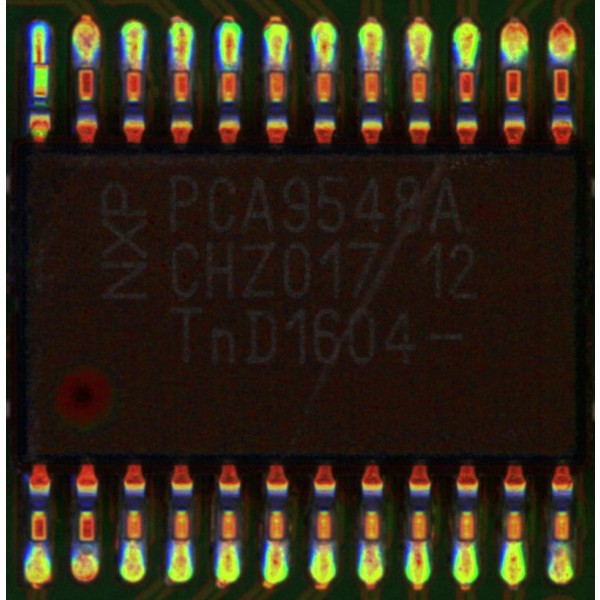Bad_podu: (315, 531, 332, 560), (413, 526, 426, 558), (459, 528, 473, 557), (176, 530, 189, 561), (365, 529, 378, 560), (555, 528, 568, 557), (270, 531, 283, 560), (318, 56, 331, 84), (365, 55, 377, 85), (413, 52, 424, 84), (128, 529, 139, 558), (176, 54, 187, 81), (271, 55, 282, 82), (128, 53, 138, 82), (35, 54, 46, 75)
